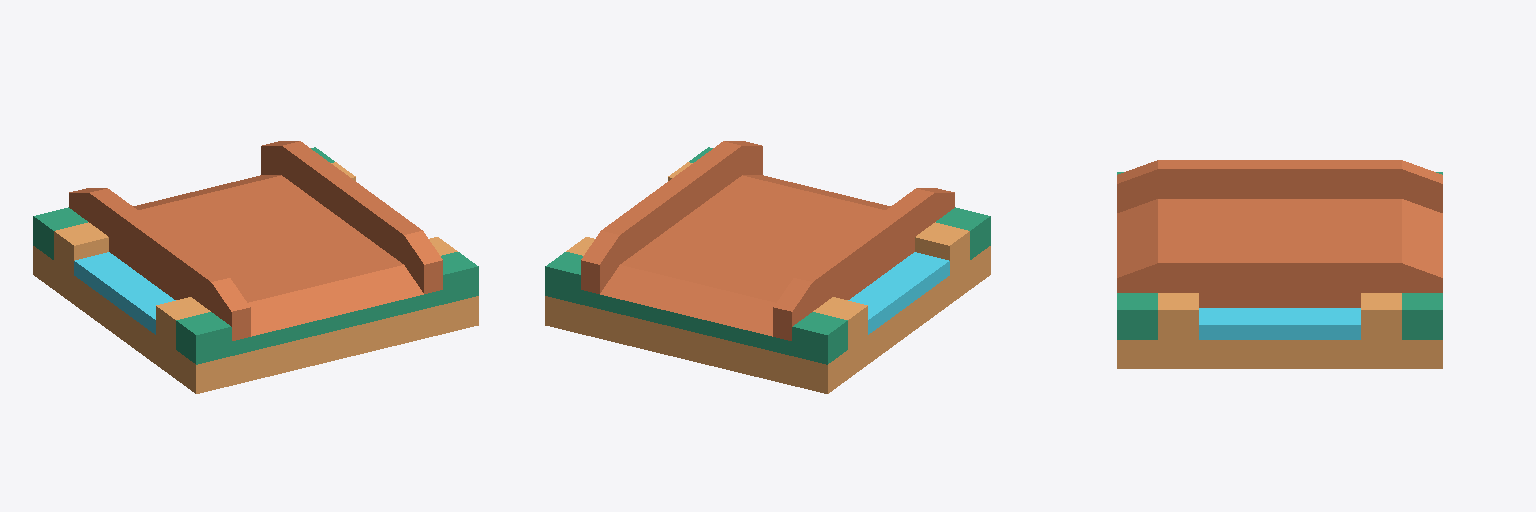
The model's file is BridgeUD.obj.
3 renders of one model, left to right at view 1: azimuth 30°, elevation 25°; view 2: azimuth 150°, elevation 25°; view 3: azimuth 270°, elevation 25°, orthographic.
Parts seen in each view (by area): view 1: BridgeUD; view 2: BridgeUD; view 3: BridgeUD.
Part boxes in pixels (bbox=[...]): BridgeUD: bbox=[33, 141, 478, 393]; BridgeUD: bbox=[545, 141, 990, 393]; BridgeUD: bbox=[1117, 160, 1442, 368].
Bounding box in the file's own units: 1 × 0.3 × 1.